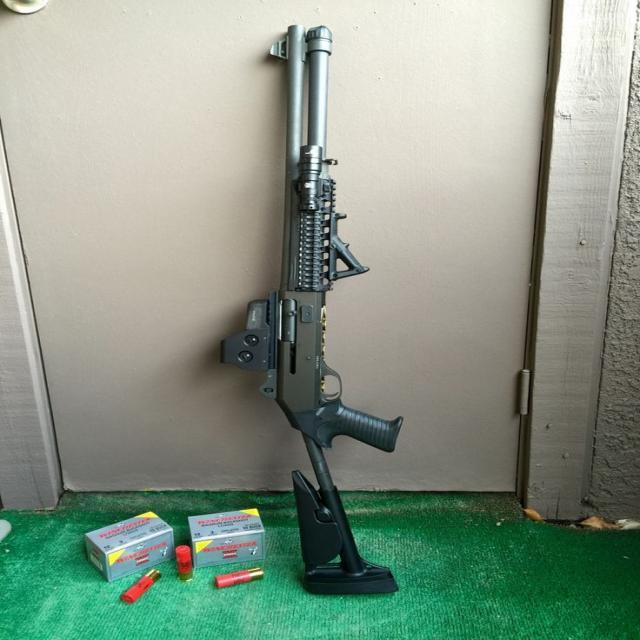shotgun: (244, 21, 418, 605)
